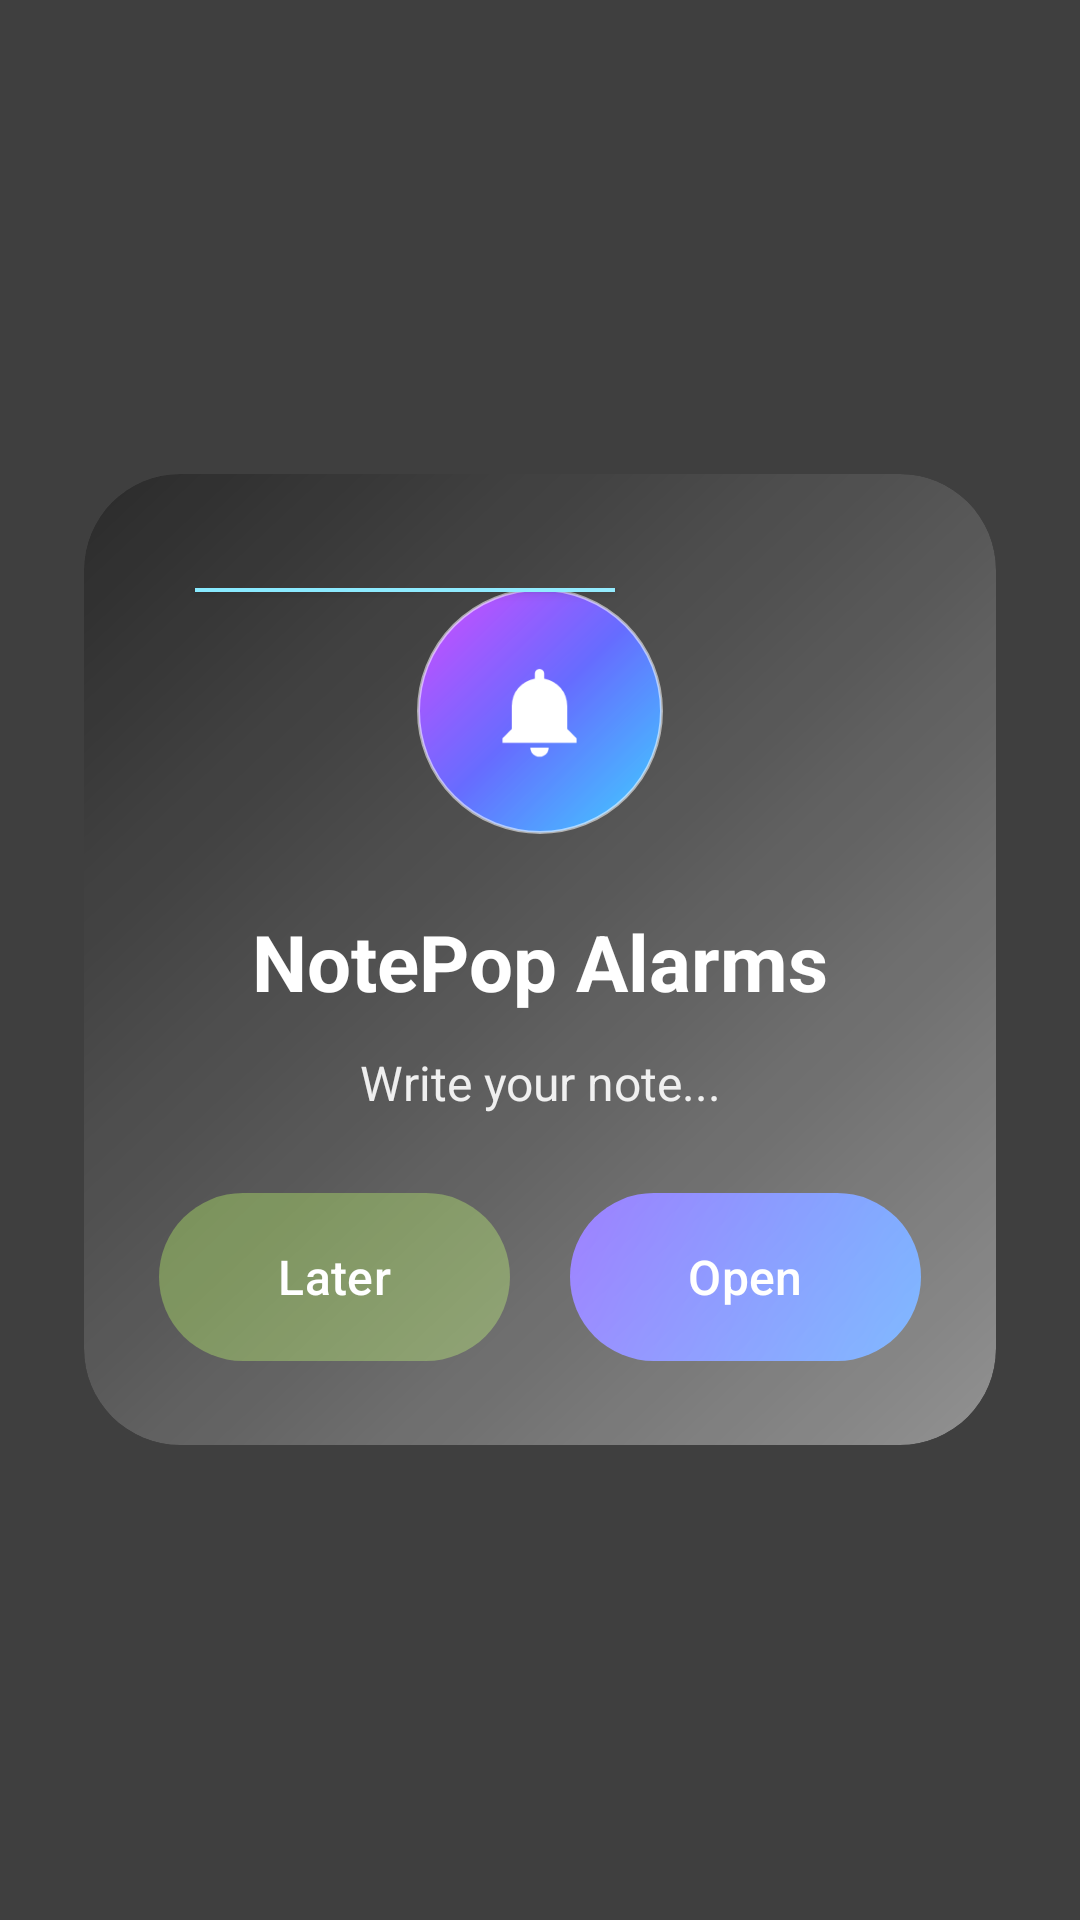

Named icons in this screenshot (1080 × 1920) and their centers, [x,y]:
notification bell: [539,710]
